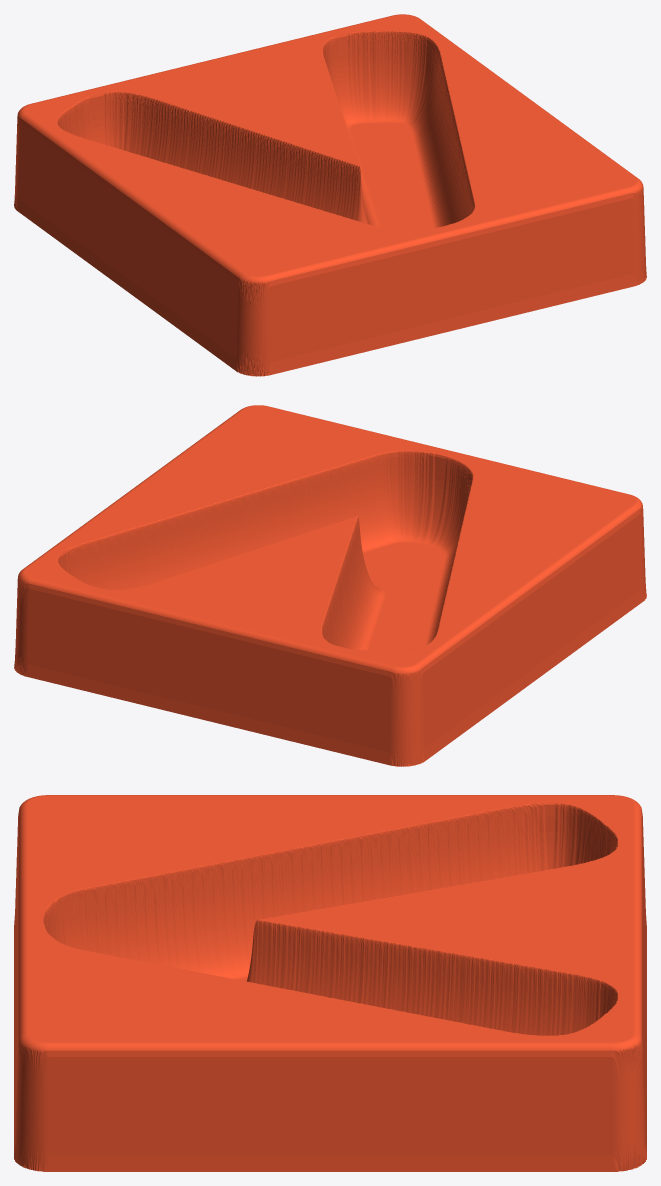
The model's file is mold.glb.
3 views of the same model, one above another, from view 1: azimuth 30°, elevation 25°; view 2: azimuth 150°, elevation 25°; view 3: azimuth 270°, elevation 25° (orthographic). The views are drawn at different scales.
Visible parts, largest first — view 1: geometry_0; view 2: geometry_0; view 3: geometry_0.
Part boxes in pixels (<box>): geometry_0: <box>14,14,646,376</box>; geometry_0: <box>14,405,646,766</box>; geometry_0: <box>14,795,646,1171</box>.
Size of the model in its own units: 0.1628 by 0.0365 by 0.1689.
